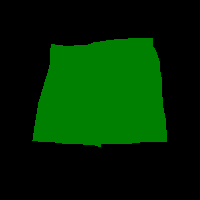mutande: (32, 37, 167, 147)
